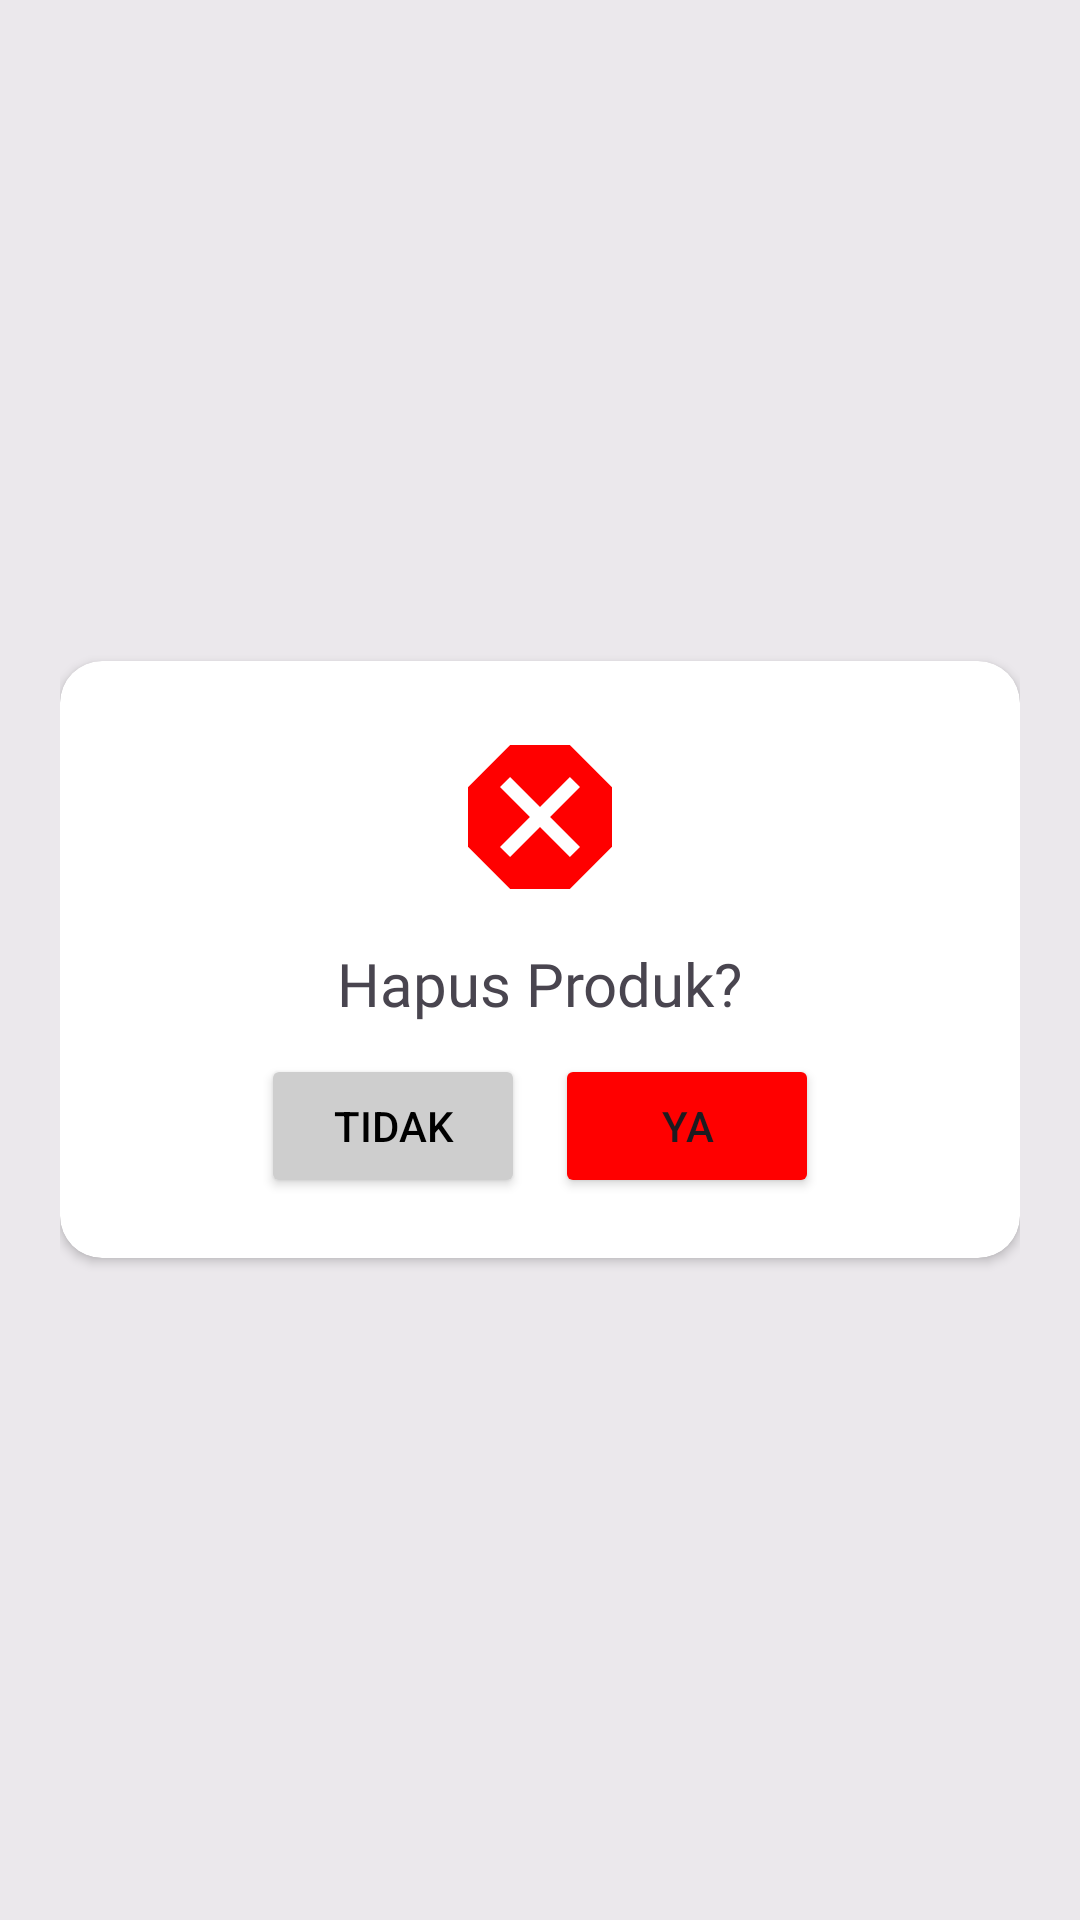

Where to tap for icons on this 1080x1920 app screen, as [x,y]:
danger: [540,817]
